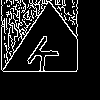K: (25, 25, 65, 82)
